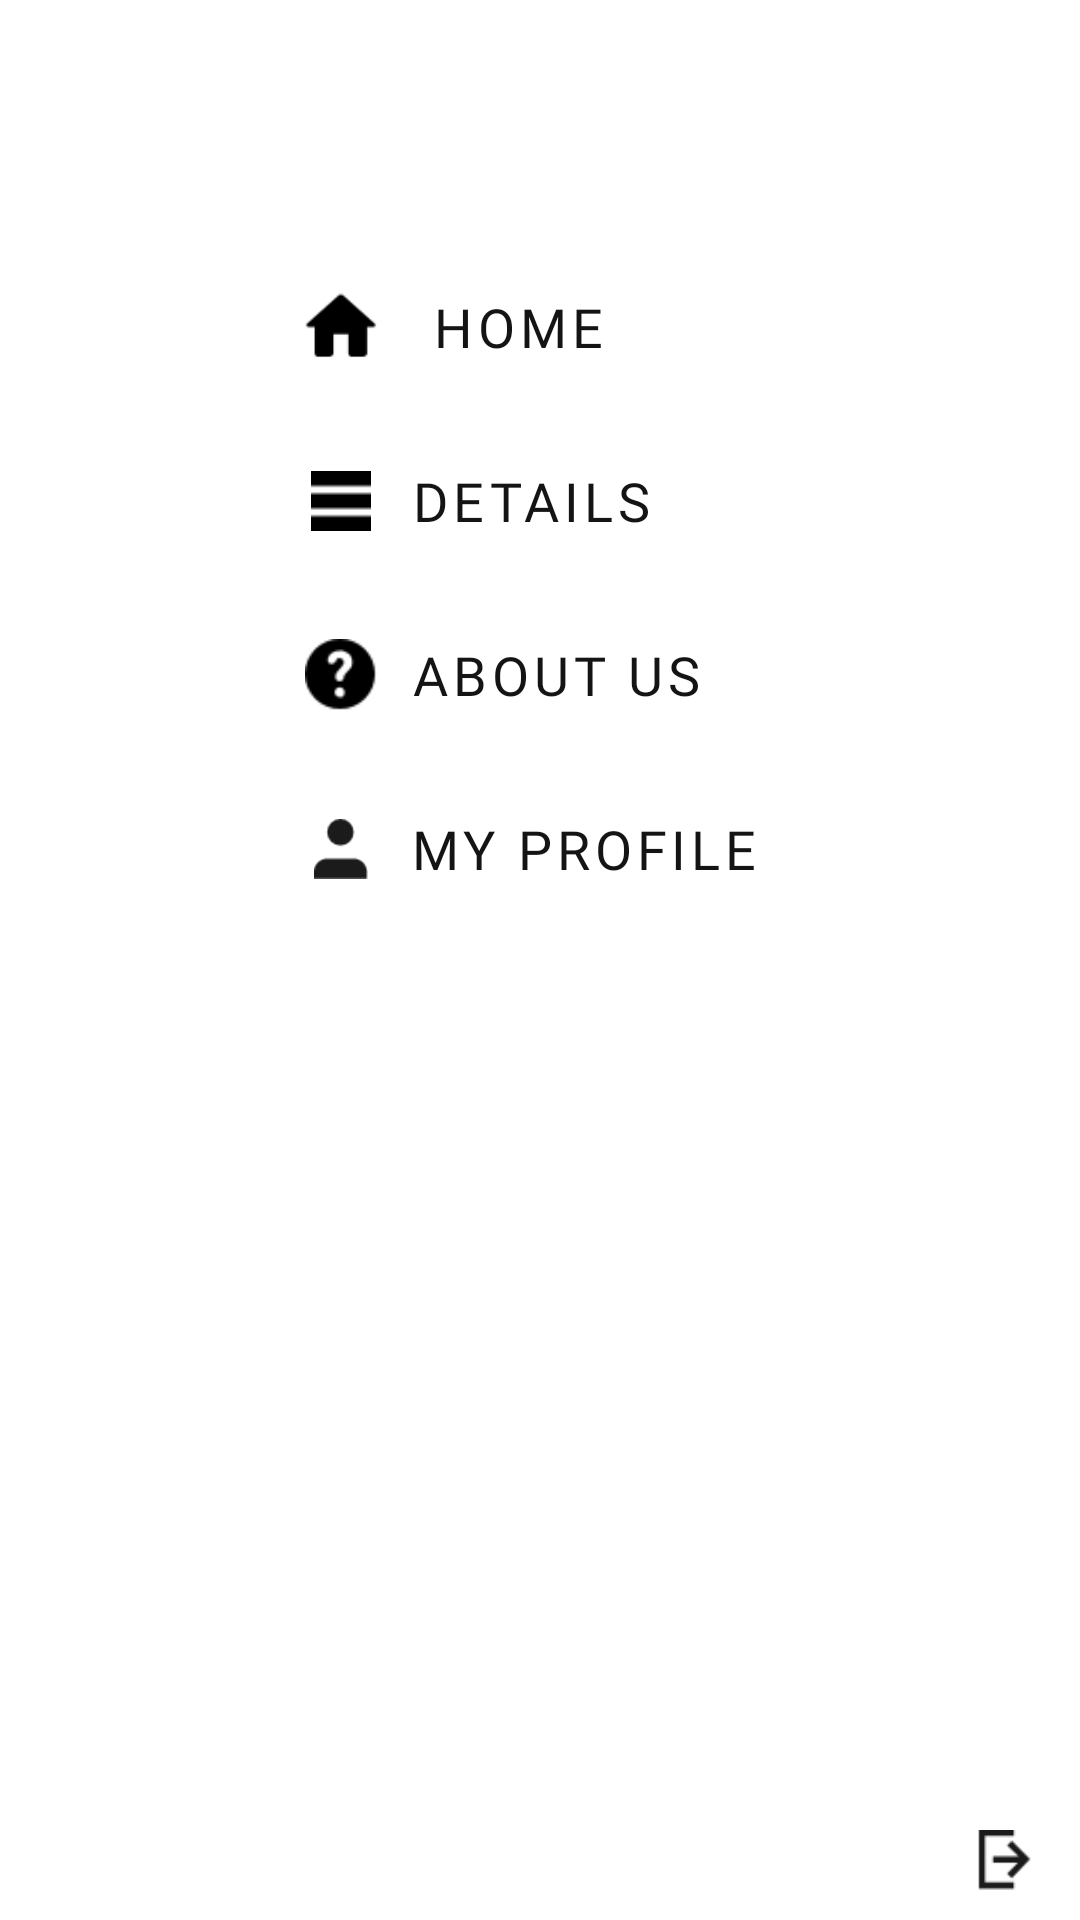

Named icons in this screenshot (1080*1920) and their bounding boxes, (x1, y1, x2, y2):
help: (305, 639, 376, 710)
sectionssmall: (311, 471, 371, 531)
user: (314, 819, 368, 879)
